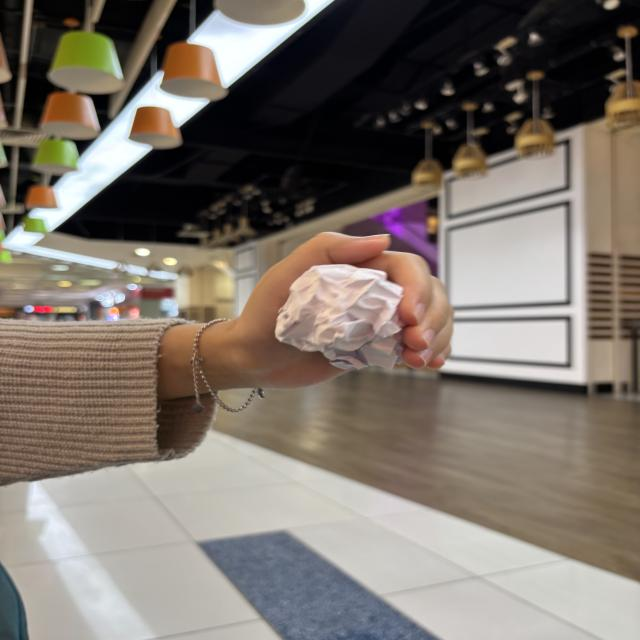crumpled_paper: (269, 259, 419, 380)
